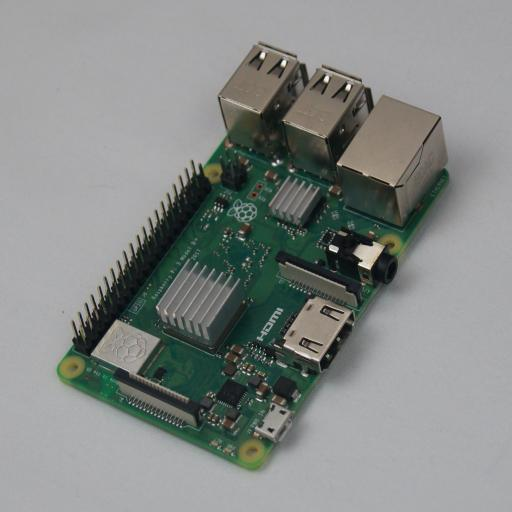Raspberry Pi 3 B-: (56, 43, 452, 470)
